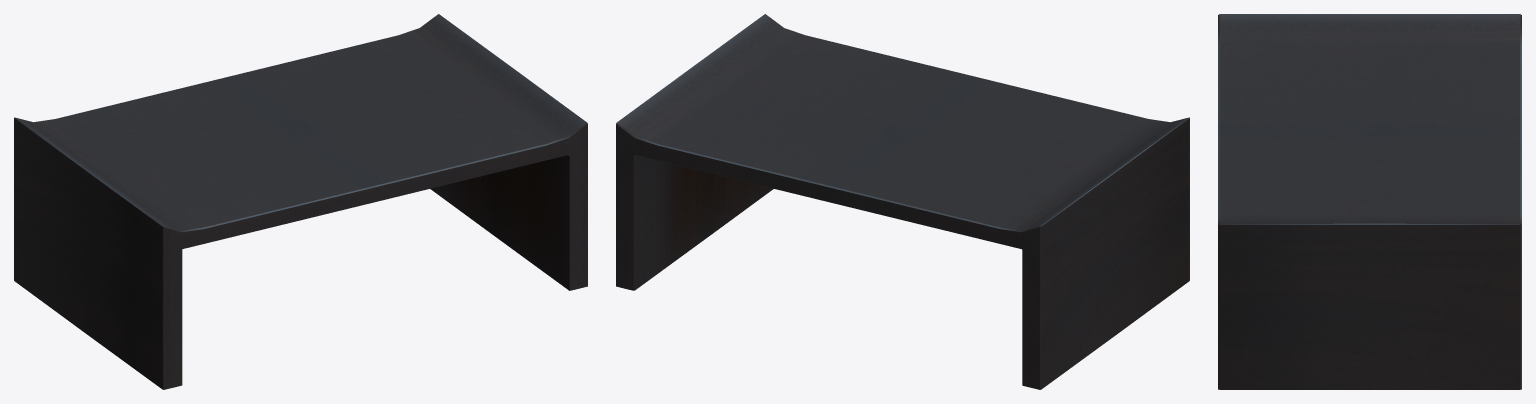
File: raw_model.obj
The picture shows the model from 3 angles, left to right: view 1: azimuth 30°, elevation 25°; view 2: azimuth 150°, elevation 25°; view 3: azimuth 270°, elevation 25°; orthographic projection.
Visible parts, largest first — view 1: solid; view 2: solid; view 3: solid.
Part boxes in pixels (box(x1,y1,x2,y2)): solid: box(14, 14, 587, 389); solid: box(616, 14, 1189, 389); solid: box(1218, 14, 1521, 389).
Bounding box in the file's own units: 1.1 × 0.4036 × 0.6701.
Materials: 1 (1 with a texture image).
